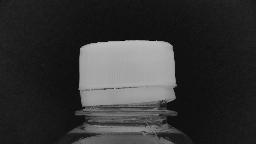Broken Ring: (75, 78, 157, 104)
